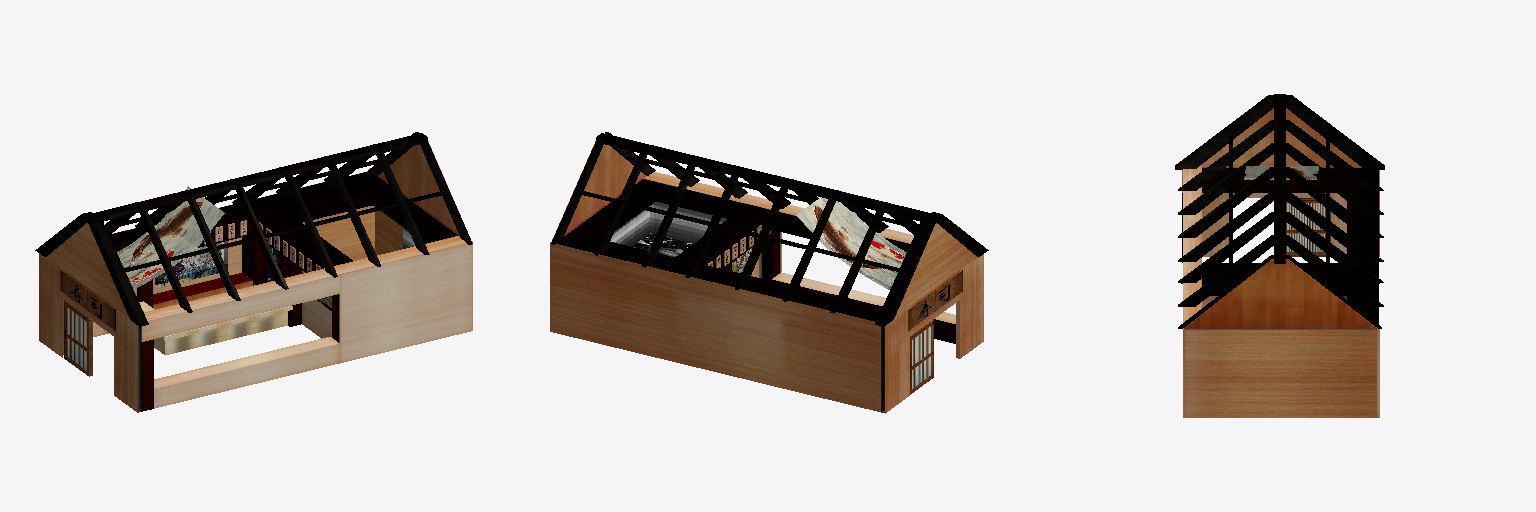
3 renders of one model, left to right at view 1: azimuth 30°, elevation 25°; view 2: azimuth 150°, elevation 25°; view 3: azimuth 270°, elevation 25°, orthographic.
Bounding box in the file's own units: 9.61 × 4.37 × 5.16.
Materials: 1 (1 with a texture image).